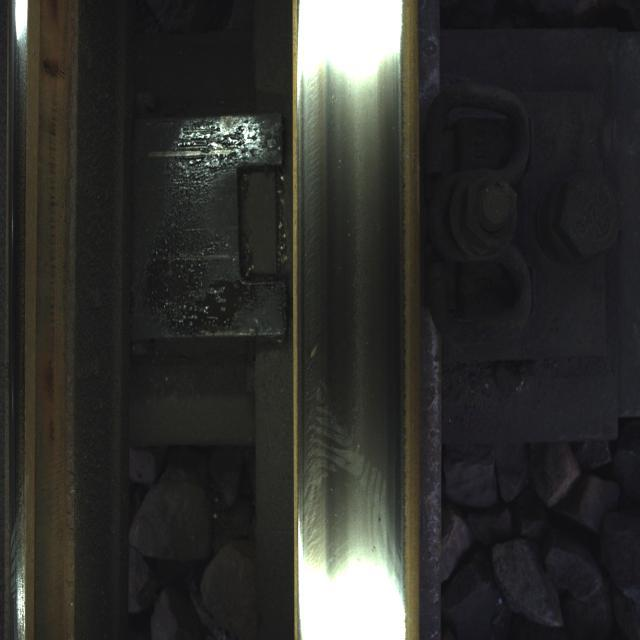break: (304, 44, 388, 558)
